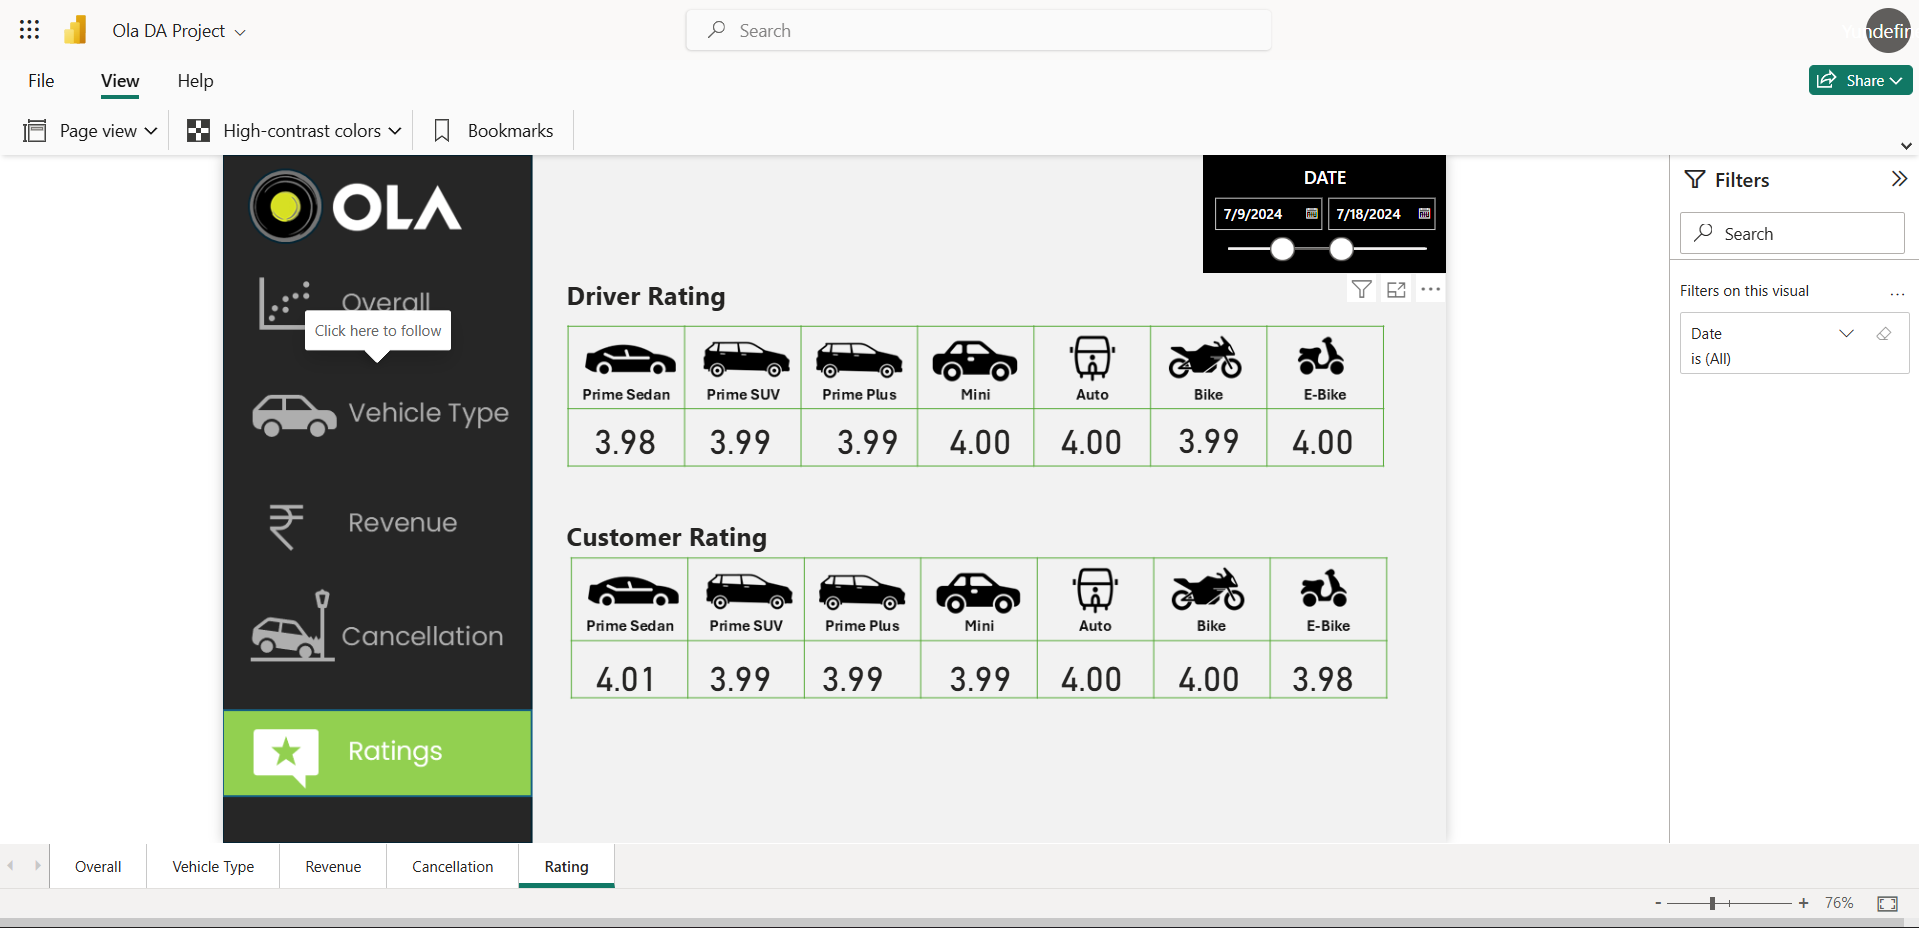

Layout of this report page (visuals, bound fields, positions):
{"tool":"powerbi","page":{"name":"Rating","canvas":[1280,720],"ordinal":4},"visuals":[{"type":"actionButton","box":[0,220.8,324.5,95.3],"z":0},{"type":"actionButton","box":[0,336.6,324.5,95.3],"z":1000},{"type":"actionButton","box":[0,451.2,324.5,95.3],"z":2000},{"type":"actionButton","box":[1.2,580.3,324.5,95.3],"z":3000},{"type":"actionButton","box":[0,103.8,324.5,95.3],"z":4000},{"type":"card","fields":{"Values":["July.Driver_Ratings"]},"box":[354,269,133.1,56.3],"z":5000},{"type":"card","fields":{"Values":["July.Driver_Ratings"]},"box":[474.8,269,133.1,56.3],"z":6000},{"type":"card","fields":{"Values":["July.Driver_Ratings"]},"box":[607.9,269,133.1,56.3],"z":7000},{"type":"card","fields":{"Values":["July.Driver_Ratings"]},"box":[725.9,269,133.1,56.3],"z":8000},{"type":"card","fields":{"Values":["July.Driver_Ratings"]},"box":[842.5,269,133.1,56.3],"z":9000},{"type":"card","fields":{"Values":["July.Driver_Ratings"]},"box":[966,267.6,133.1,56.3],"z":10000},{"type":"card","fields":{"Values":["July.Driver_Ratings"]},"box":[1084.1,269,133.1,56.3],"z":11000},{"type":"textbox","box":[354,123.5,295,54.9],"z":12000},{"type":"textbox","box":[354,376,295,54.9],"z":13000},{"type":"card","fields":{"Values":["July.Customer_Rating"]},"box":[355.4,517.3,133.1,56.3],"z":14000},{"type":"card","fields":{"Values":["July.Customer_Rating"]},"box":[474.8,517.3,133.1,56.3],"z":15000},{"type":"card","fields":{"Values":["July.Customer_Rating"]},"box":[592.8,517.3,133.1,56.3],"z":16000},{"type":"card","fields":{"Values":["July.Customer_Rating"]},"box":[725.9,517.3,133.1,56.3],"z":17000},{"type":"card","fields":{"Values":["July.Customer_Rating"]},"box":[842.5,517.3,133.1,56.3],"z":18000},{"type":"card","fields":{"Values":["July.Customer_Rating"]},"box":[966,517.3,133.1,56.3],"z":19000},{"type":"card","fields":{"Values":["July.Customer_Rating"]},"box":[1084.1,517.3,133.1,56.3],"z":20000},{"type":"slicer","title":"DATE","fields":{"Values":["July.Date"]},"box":[1025,0,255.2,123.5],"z":21000}]}

Visuals, with their boxes on the page's 1280x720 design canvas (x1, y1, x2, y2). These are canvas units, not pixel positions in the 1919x928 screenshot, which may show the page scaled, cropped or inside an application window:
actionButton: [0, 221, 324, 316]
actionButton: [0, 337, 324, 432]
actionButton: [0, 451, 324, 546]
actionButton: [1, 580, 326, 676]
actionButton: [0, 104, 324, 199]
card - July.Driver_Ratings: [354, 269, 487, 325]
card - July.Driver_Ratings: [475, 269, 608, 325]
card - July.Driver_Ratings: [608, 269, 741, 325]
card - July.Driver_Ratings: [726, 269, 859, 325]
card - July.Driver_Ratings: [842, 269, 976, 325]
card - July.Driver_Ratings: [966, 268, 1099, 324]
card - July.Driver_Ratings: [1084, 269, 1217, 325]
textbox: [354, 124, 649, 178]
textbox: [354, 376, 649, 431]
card - July.Customer_Rating: [355, 517, 488, 574]
card - July.Customer_Rating: [475, 517, 608, 574]
card - July.Customer_Rating: [593, 517, 726, 574]
card - July.Customer_Rating: [726, 517, 859, 574]
card - July.Customer_Rating: [842, 517, 976, 574]
card - July.Customer_Rating: [966, 517, 1099, 574]
card - July.Customer_Rating: [1084, 517, 1217, 574]
"DATE" slicer: [1025, 0, 1280, 124]
